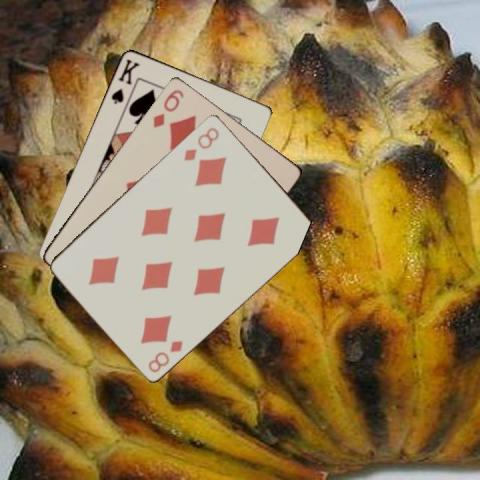6d: (150, 86, 186, 129)
8d: (180, 124, 221, 162), (144, 337, 184, 374)
Ks: (108, 55, 141, 106)
